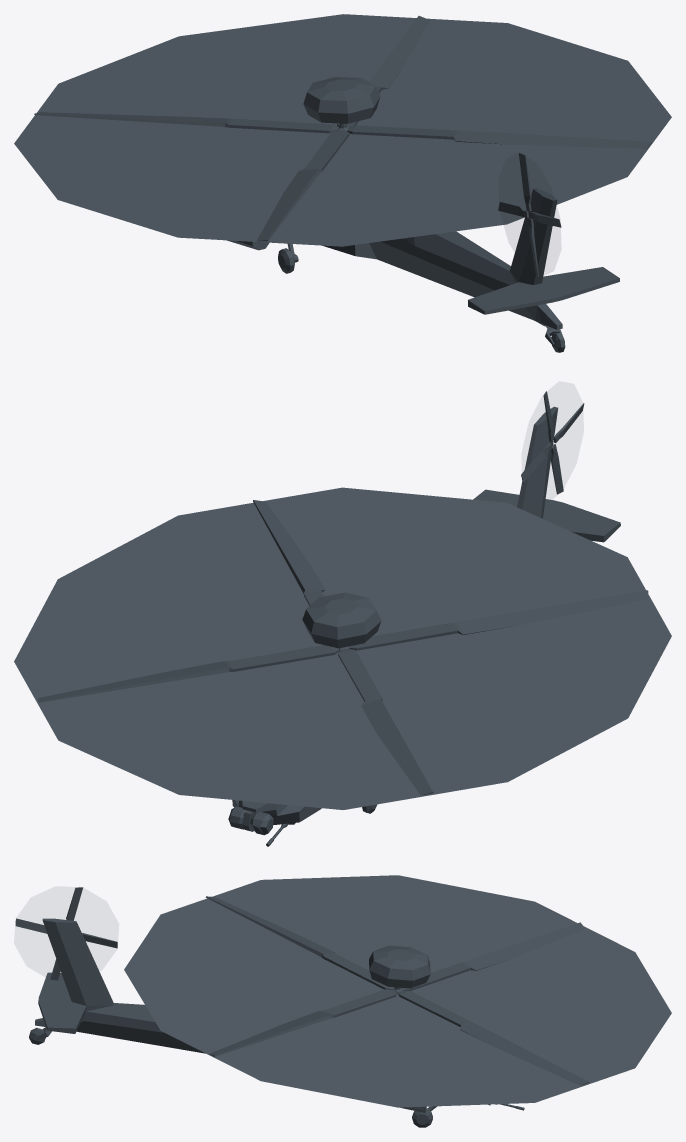
Rendered from Heli-Apache.glb.
3 renders of one model, top to bottom at view 1: azimuth 30°, elevation 25°; view 2: azimuth 150°, elevation 25°; view 3: azimuth 270°, elevation 25°, orthographic. The views are drawn at different scales.
Bounding box in the file's own units: 15.37 × 6.78 × 18.39.
